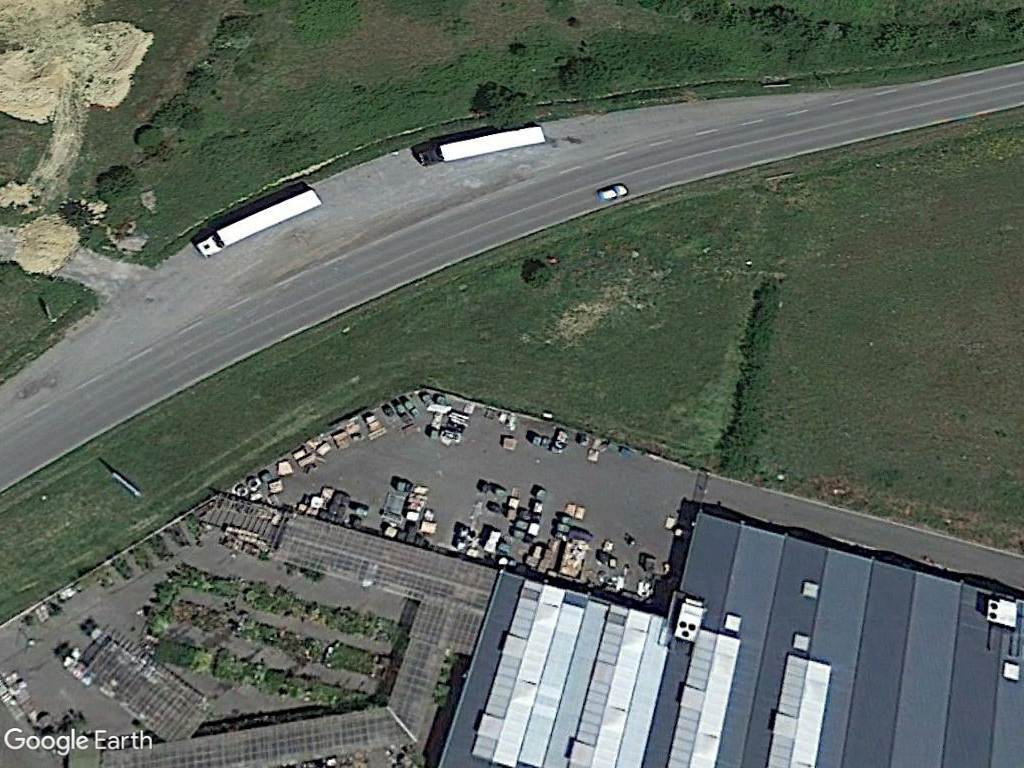car: (594, 181, 630, 202)
longvehicle: (186, 185, 328, 263), (413, 116, 552, 173)
